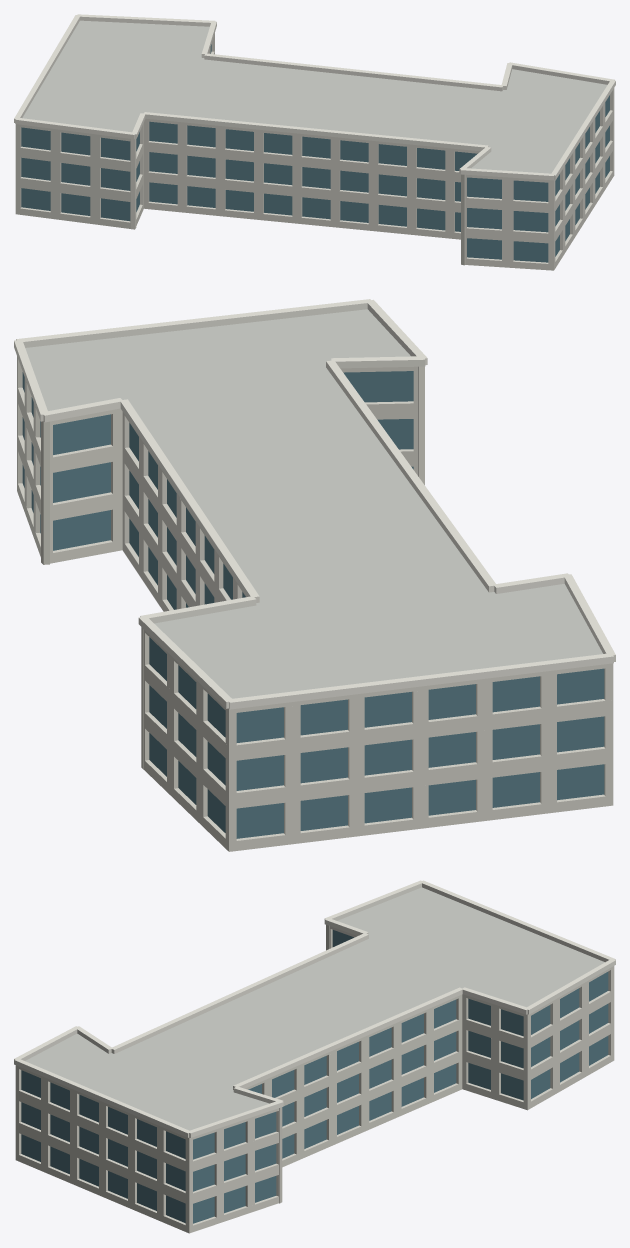
The model's file is sb_1556523862.far.glb.
3 views of the same model, one above another, from view 1: azimuth 30°, elevation 25°; view 2: azimuth 150°, elevation 25°; view 3: azimuth 270°, elevation 25° (orthographic). The views are drawn at different scales.
Visible parts, largest first — view 1: roof, wall, glass, trim; view 2: roof, wall, glass, trim; view 3: roof, wall, glass, trim.
Boxes of the visible parts, <box> form: roof: <box>22,20,607,173</box>; wall: <box>15,33,614,270</box>; glass: <box>21,44,609,262</box>; trim: <box>14,14,615,180</box>; roof: <box>25,309,602,698</box>; wall: <box>17,356,613,851</box>; glass: <box>22,371,604,838</box>; trim: <box>14,299,615,709</box>; roof: <box>25,887,604,1130</box>; wall: <box>15,925,614,1233</box>; glass: <box>21,930,608,1223</box>; trim: <box>14,880,615,1137</box>.
Bounding box in the file's own units: 52.48 × 9.74 × 52.76.
